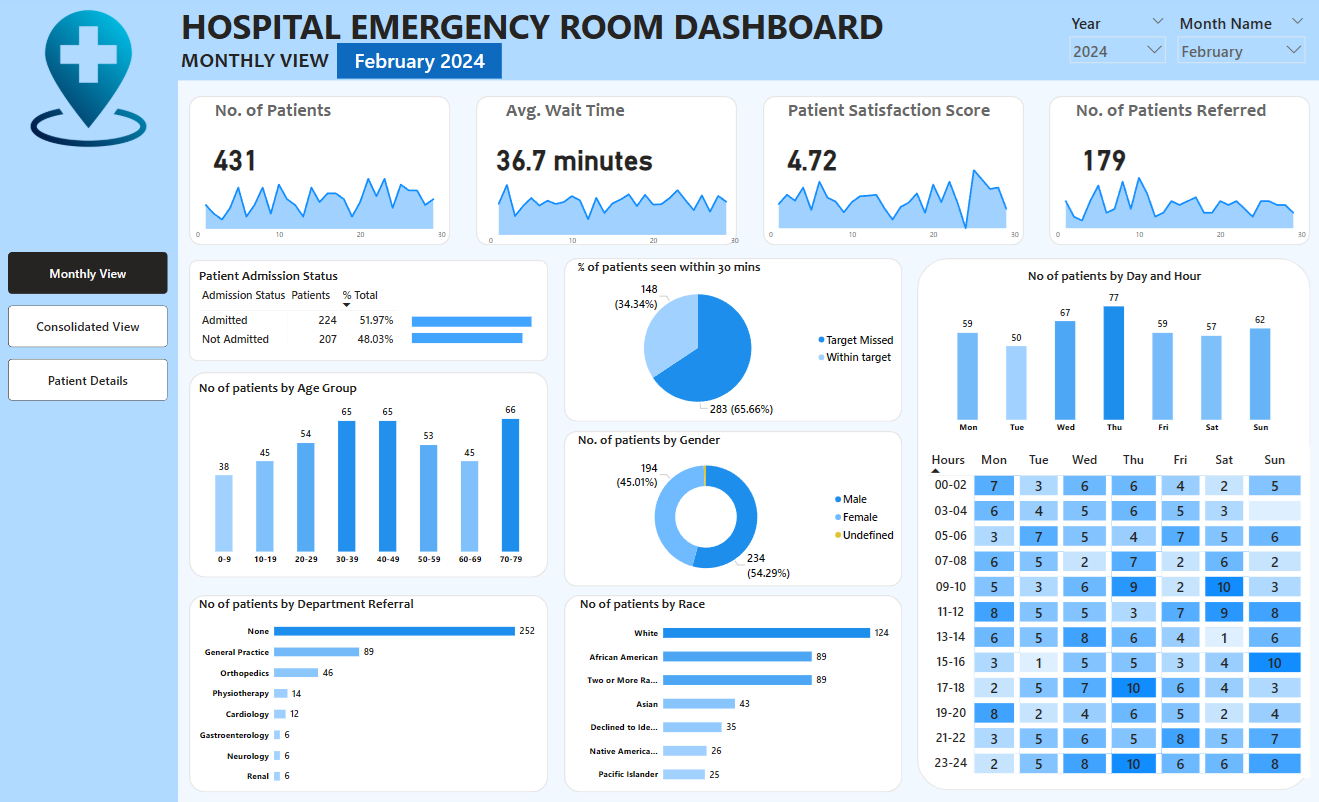

This screenshot's page, from the dashboard's own definition file:
{"tool":"powerbi","page":{"name":"Page 1","canvas":[2300,1400],"ordinal":0},"visuals":[{"type":"shape","box":[0,0,310,1400],"z":0},{"type":"shape","box":[309.1,0,1990.9,140],"z":1000},{"type":"textbox","box":[309.1,0,1261.8,105.5],"z":2000},{"type":"textbox","box":[310,74.9,278.6,64.4],"z":3000},{"type":"shape","box":[329.1,167.3,455,260],"z":4000},{"type":"card","fields":{"Values":["Hospital ER_Data.No of patients"]},"box":[341.8,230.9,138.2,81.8],"z":5000},{"type":"slicer","fields":{"Values":["Date.Year"]},"box":[1852.7,16.4,187.3,105.5],"z":6000},{"type":"slicer","fields":{"Values":["Date.Month Name"]},"box":[2040,16.4,241.8,105.5],"z":7000},{"type":"textbox","box":[329.1,167.3,454.5,63.6],"z":8000},{"type":"areaChart","fields":{"Y":["Hospital ER_Data.No of patients"],"Category":["Date.Date.Variation.Date Hierarchy.Day"]},"box":[329.1,281.8,454.5,145.5],"z":9000},{"type":"card","fields":{"Values":["Min(Date.Month & Year)"]},"box":[587.3,74.5,287.3,61.8],"z":10000},{"type":"shape","box":[828.8,167.3,454.5,260],"z":11000},{"type":"shape","box":[1328,167.3,454.5,260],"z":12000},{"type":"shape","box":[1827.3,167.3,454.5,260],"z":13000},{"type":"areaChart","fields":{"Category":["Date.Date.Variation.Date Hierarchy.Day"]},"box":[829.1,281.8,454.5,145.5],"z":14000},{"type":"areaChart","fields":{"Category":["Date.Date.Variation.Date Hierarchy.Day"],"Y":["Hospital ER_Data.Avg satisfaction score"]},"box":[1327.3,281.8,454.5,145.5],"z":15000},{"type":"areaChart","fields":{"Category":["Date.Date.Variation.Date Hierarchy.Day"],"Y":["Hospital ER_Data.No of patients referred"]},"box":[1827.3,281.8,454.5,145.5],"z":16000},{"type":"textbox","box":[829.1,167.3,278.2,63.6],"z":17000},{"type":"textbox","box":[1327.3,167.3,454.5,63.6],"z":18000},{"type":"textbox","box":[1829.1,167.3,452.7,63.6],"z":19000},{"type":"card","fields":{"Values":["Hospital ER_Data.Avg wait time"]},"box":[840,230.9,321.8,81.8],"z":20000},{"type":"card","fields":{"Values":["Hospital ER_Data.Avg satisfaction score"]},"box":[1345.5,230.9,136.4,81.8],"z":21000},{"type":"card","fields":{"Values":["Hospital ER_Data.No of patients referred"]},"box":[1852.7,230.9,138.2,81.8],"z":22000},{"type":"textbox","box":[829.1,167.3,454.5,63.6],"z":23000},{"type":"areaChart","fields":{"Category":["Date.Date.Variation.Date Hierarchy.Day"],"Y":["Avg(Hospital ER_Data.Patient Waittime)"]},"box":[839.1,291.8,454.5,145.5],"z":24000},{"type":"shape","box":[329.1,452.7,625.5,176.4],"z":25000},{"type":"pivotTable","title":"Patient Admission Status","fields":{"Rows":["Hospital ER_Data.Patients Admitted"],"Values":["Hospital ER_Data.No of patients","Divide(Hospital ER_Data.No of patients, ScopedEval(Hospital ER_Data.No of patients, []))"]},"box":[341.8,465.5,545.5,152.7],"z":26000},{"type":"barChart","fields":{"Category":["Hospital ER_Data.Admission Status"],"Y":["Hospital ER_Data.No of patients"]},"box":[712.7,523.6,289.1,94.5],"z":27000},{"type":"shape","box":[329.1,647.3,625.5,358.2],"z":28000},{"type":"columnChart","fields":{"Category":["Hospital ER_Data.Age Group"],"Y":["Hospital ER_Data.No of patients"]},"box":[341.8,660,598.2,334.5],"z":29000},{"type":"shape","box":[329.1,1036.4,625.5,343.6],"z":30000},{"type":"barChart","fields":{"Category":["Hospital ER_Data.Department Referral"],"Y":["Hospital ER_Data.No of patients"]},"box":[341.8,1036.4,598.2,343.6],"z":31000},{"type":"shape","box":[981.8,449.1,589.1,285.5],"z":32000},{"type":"shape","box":[981.8,750.9,589.1,270.9],"z":33000},{"type":"pieChart","title":"% of patients seen within 30 mins","fields":{"Category":["Hospital ER_Data.Waittime Status"],"Y":["Hospital ER_Data.No of patients"]},"box":[1001.8,449.1,569.1,285.5],"z":34000},{"type":"donutChart","title":"No. of patients by Gender","fields":{"Y":["Hospital ER_Data.No of patients"],"Category":["Hospital ER_Data.Patient Gender"]},"box":[1001.8,750.9,569.1,270.9],"z":35000},{"type":"shape","box":[981.8,1036.4,589.1,343.6],"z":36000},{"type":"barChart","title":"No of patients by Race","fields":{"Y":["Hospital ER_Data.No of patients"],"Category":["Hospital ER_Data.Patient Race"]},"box":[1005.5,1036.4,549.1,343.6],"z":37000},{"type":"shape","box":[1596.4,449.1,685.5,927.3],"z":38000},{"type":"pivotTable","fields":{"Rows":["Hospital ER_Data.Waittime Interval"],"Columns":["Date.Day name"],"Values":["Hospital ER_Data.No of patients"]},"box":[1610.9,778.2,670.9,576.4],"z":39000},{"type":"columnChart","title":"No of patients by Day and Hour","fields":{"Y":["Hospital ER_Data.No of patients"],"Category":["Date.Day name"]},"box":[1627.3,465.5,625.5,300],"z":40000},{"type":"image","box":[29.1,12.7,249.1,249.1],"z":41000}]}

Visuals, with their boxes in screenshot pixels (x1, y1, x2, y2), scaled from the page's 2300x1400 canvas onto the 1319x802 screenshot:
shape: [0,0,178,801]
shape: [177,0,1318,80]
textbox: [177,0,901,60]
textbox: [178,43,338,80]
shape: [189,96,450,245]
card - Hospital ER_Data.No of patients: [196,132,275,179]
slicer - Date.Year: [1062,9,1170,70]
slicer - Date.Month Name: [1170,9,1309,70]
textbox: [189,96,449,132]
areaChart - Hospital ER_Data.No of patients x Date.Date.Variation.Date Hierarchy.Day: [189,161,449,245]
card - Min(Date.Month & Year): [337,43,502,78]
shape: [475,96,736,245]
shape: [762,96,1022,245]
shape: [1048,96,1309,245]
areaChart - Date.Date.Variation.Date Hierarchy.Day: [475,161,736,245]
areaChart - Date.Date.Variation.Date Hierarchy.Day x Hospital ER_Data.Avg satisfaction score: [761,161,1022,245]
areaChart - Date.Date.Variation.Date Hierarchy.Day x Hospital ER_Data.No of patients referred: [1048,161,1309,245]
textbox: [475,96,635,132]
textbox: [761,96,1022,132]
textbox: [1049,96,1309,132]
card - Hospital ER_Data.Avg wait time: [482,132,666,179]
card - Hospital ER_Data.Avg satisfaction score: [772,132,850,179]
card - Hospital ER_Data.No of patients referred: [1062,132,1142,179]
textbox: [475,96,736,132]
areaChart - Date.Date.Variation.Date Hierarchy.Day x Avg(Hospital ER_Data.Patient Waittime): [481,167,742,251]
shape: [189,259,547,360]
"Patient Admission Status" pivotTable: [196,267,509,354]
barChart - Hospital ER_Data.Admission Status x Hospital ER_Data.No of patients: [409,300,575,354]
shape: [189,371,547,576]
columnChart - Hospital ER_Data.Age Group x Hospital ER_Data.No of patients: [196,378,539,570]
shape: [189,594,547,791]
barChart - Hospital ER_Data.Department Referral x Hospital ER_Data.No of patients: [196,594,539,791]
shape: [563,257,901,421]
shape: [563,430,901,585]
"% of patients seen within 30 mins" pieChart: [575,257,901,421]
"No. of patients by Gender" donutChart: [575,430,901,585]
shape: [563,594,901,791]
"No of patients by Race" barChart: [577,594,892,791]
shape: [916,257,1309,788]
pivotTable - Hospital ER_Data.Waittime Interval x Date.Day name: [924,446,1309,776]
"No of patients by Day and Hour" columnChart: [933,267,1292,439]
image: [17,7,160,150]
